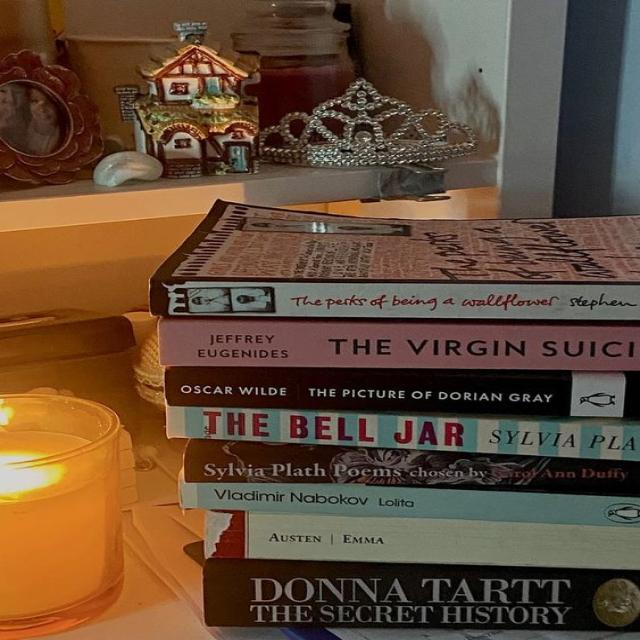book: (203, 558, 639, 631), (166, 406, 639, 460), (185, 440, 639, 496), (159, 320, 639, 370), (165, 367, 639, 417), (244, 513, 639, 569), (183, 483, 639, 527), (152, 280, 640, 318)
candle: (0, 390, 130, 639)
